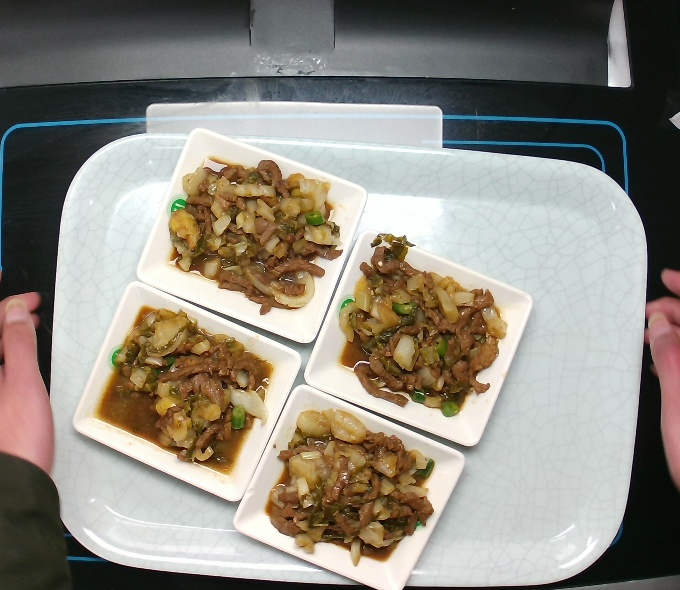wcq-PaoCaiNiuRou: (333, 234, 503, 428), (263, 383, 433, 577), (99, 287, 269, 481), (161, 153, 353, 324)
